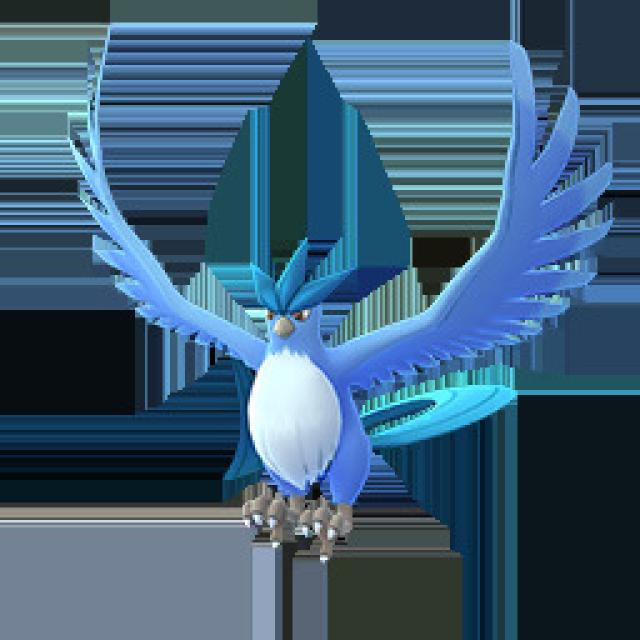Articuno: (139, 167, 490, 571)
